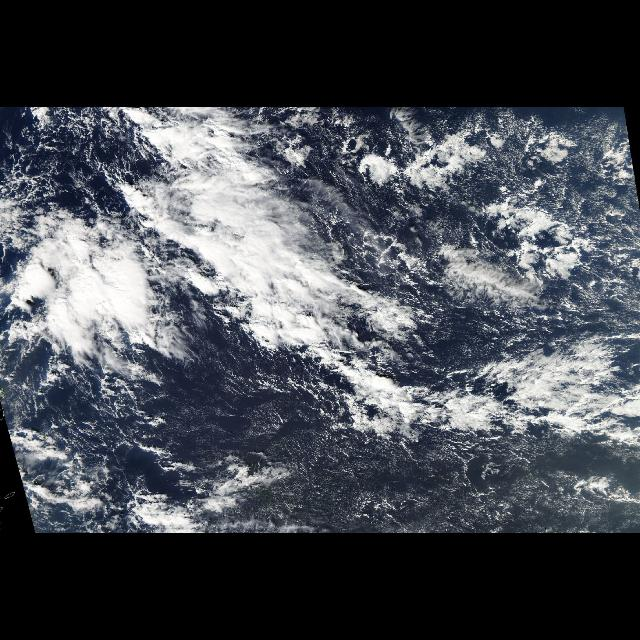Sugar: (170, 394, 508, 528)
